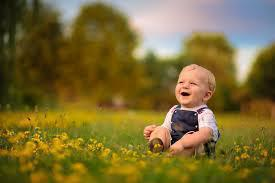child: (137, 60, 223, 161)
